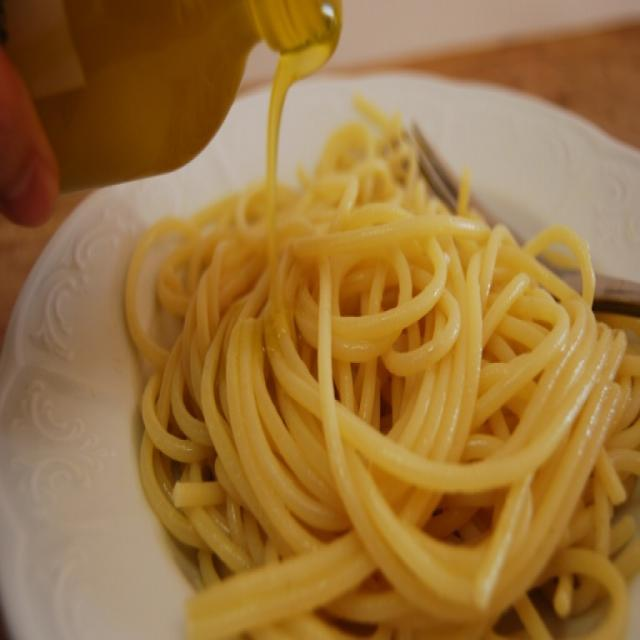Oil pasta: (98, 72, 639, 640)
